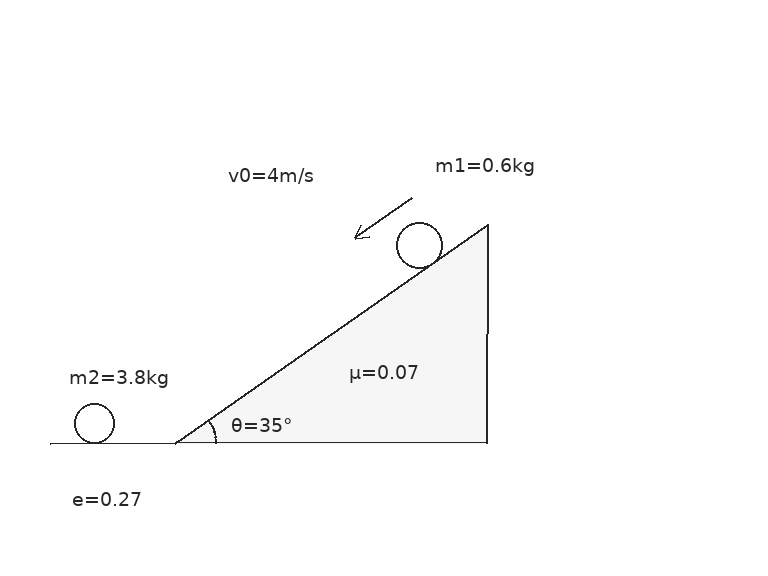ball: (394, 220, 444, 270), (72, 401, 116, 445)
ramp: (174, 223, 489, 445)
